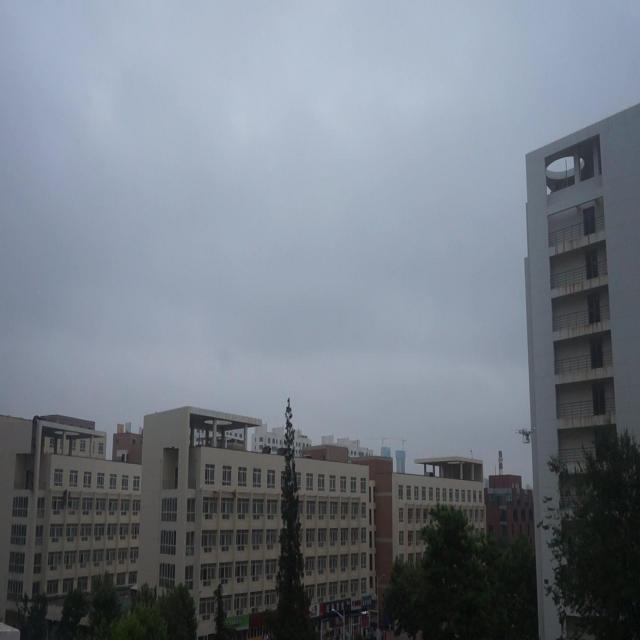UAV: (515, 427, 537, 444)
